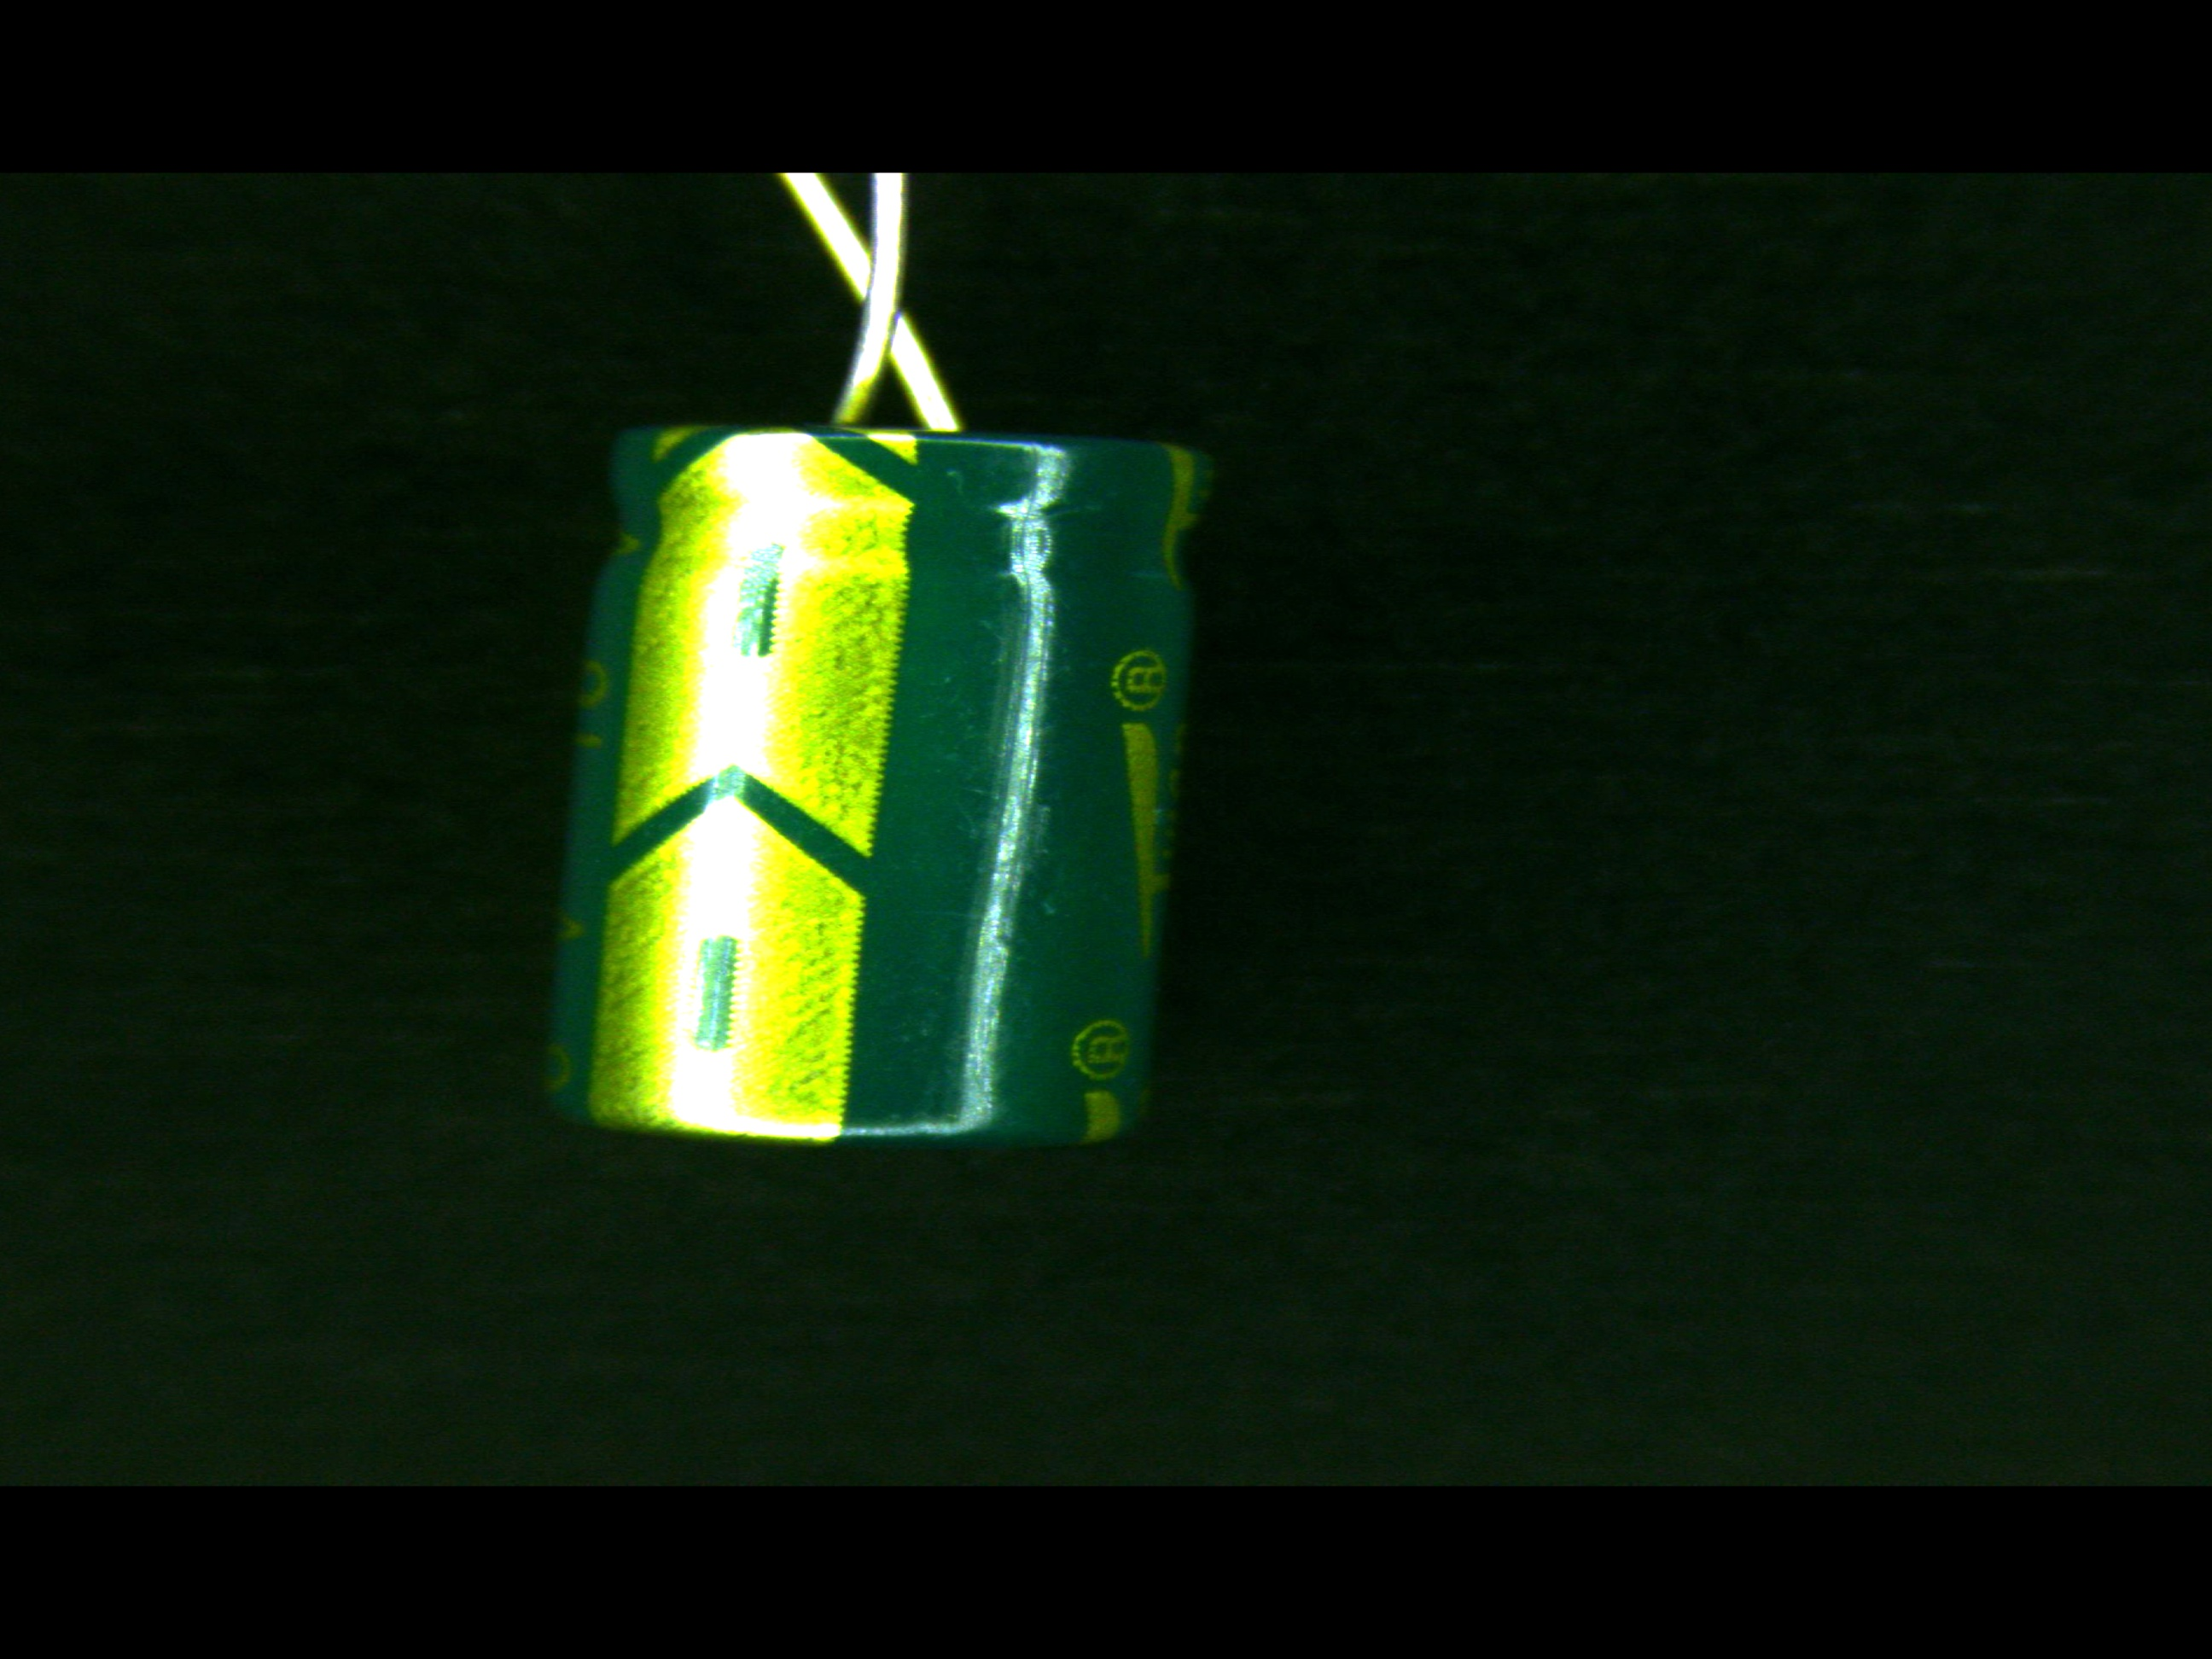c1: (538, 354, 1217, 1147)
